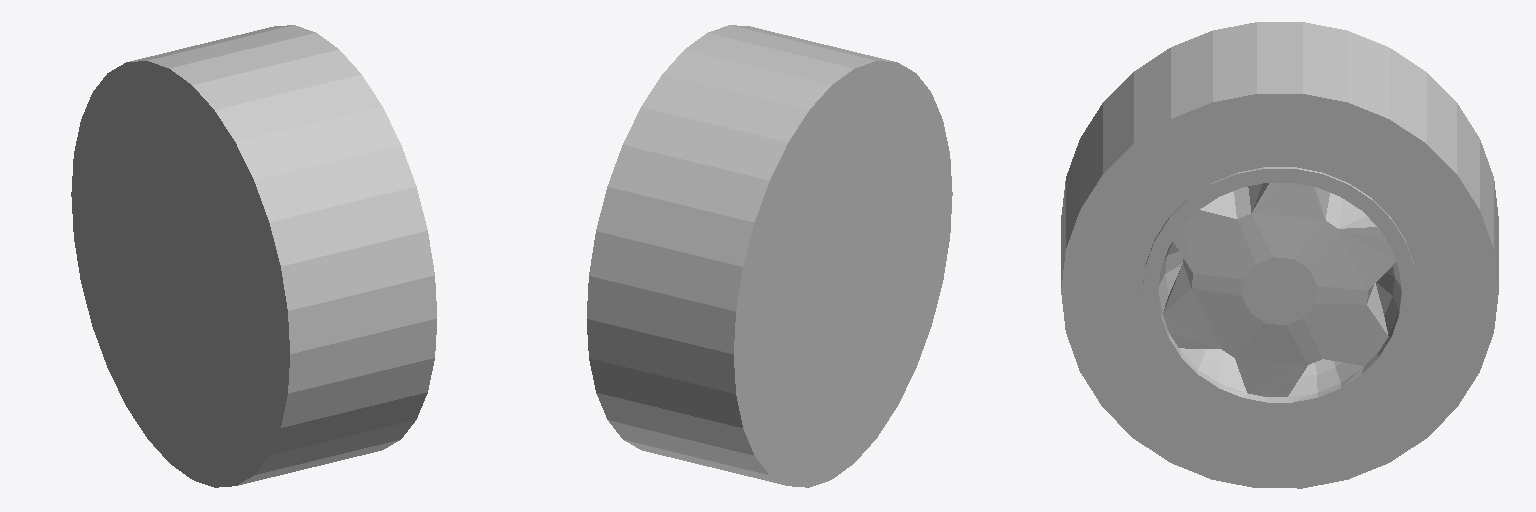
File: llanta.obj
3 views of the same model, side by side, from view 1: azimuth 30°, elevation 25°; view 2: azimuth 150°, elevation 25°; view 3: azimuth 270°, elevation 25° (orthographic).
Parts seen in each view (by area): view 1: llanta1; view 2: llanta1; view 3: llanta1.
Boxes of the visible parts, x1=… form: llanta1: x1=71, y1=25, x2=436, y2=487; llanta1: x1=587, y1=25, x2=952, y2=487; llanta1: x1=1061, y1=22, x2=1498, y2=488.
Bounding box in the file's own units: 0.021 × 0.0526 × 0.0529.